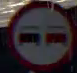No overtake: (7, 0, 76, 71)
